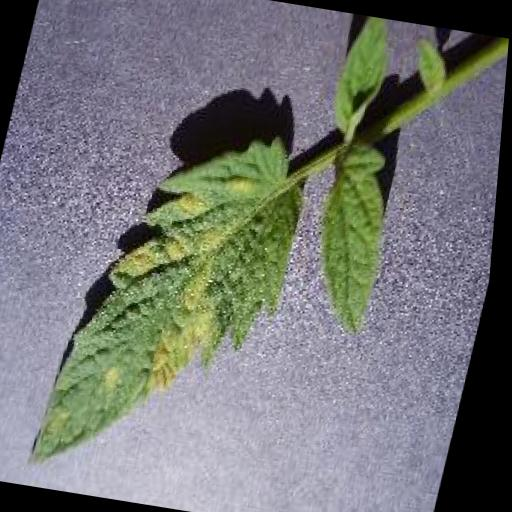Healthy: (296, 139, 409, 343), (327, 12, 397, 136)
Leaf Mold: (30, 108, 318, 498)
